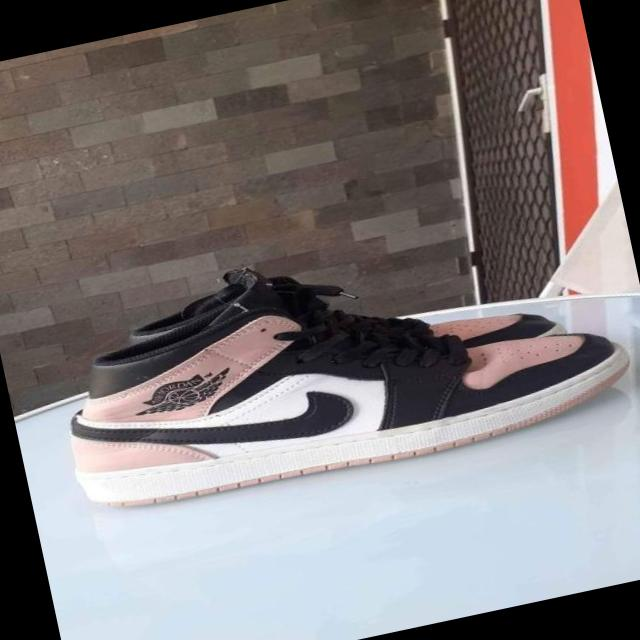nike_fake_jordan: (45, 221, 640, 526)
